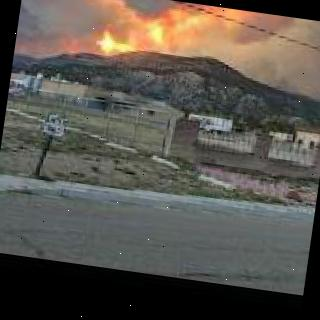fire: (32, 0, 320, 95), (71, 0, 242, 83), (222, 7, 320, 21)
